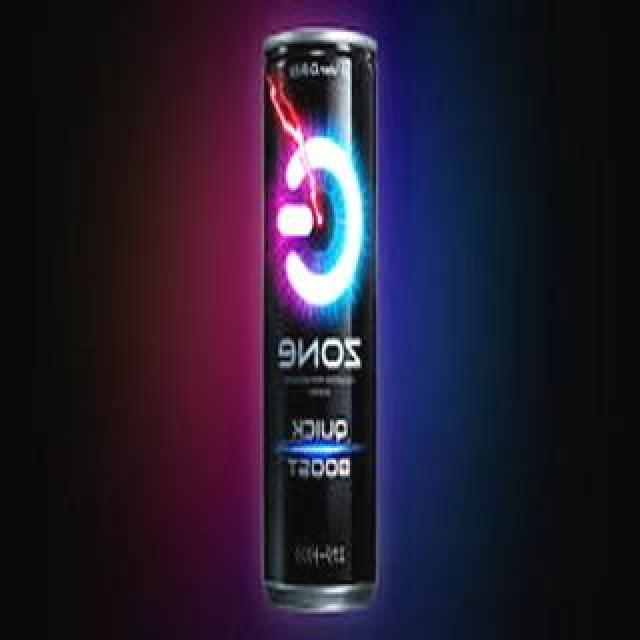Can: (243, 22, 381, 630)
